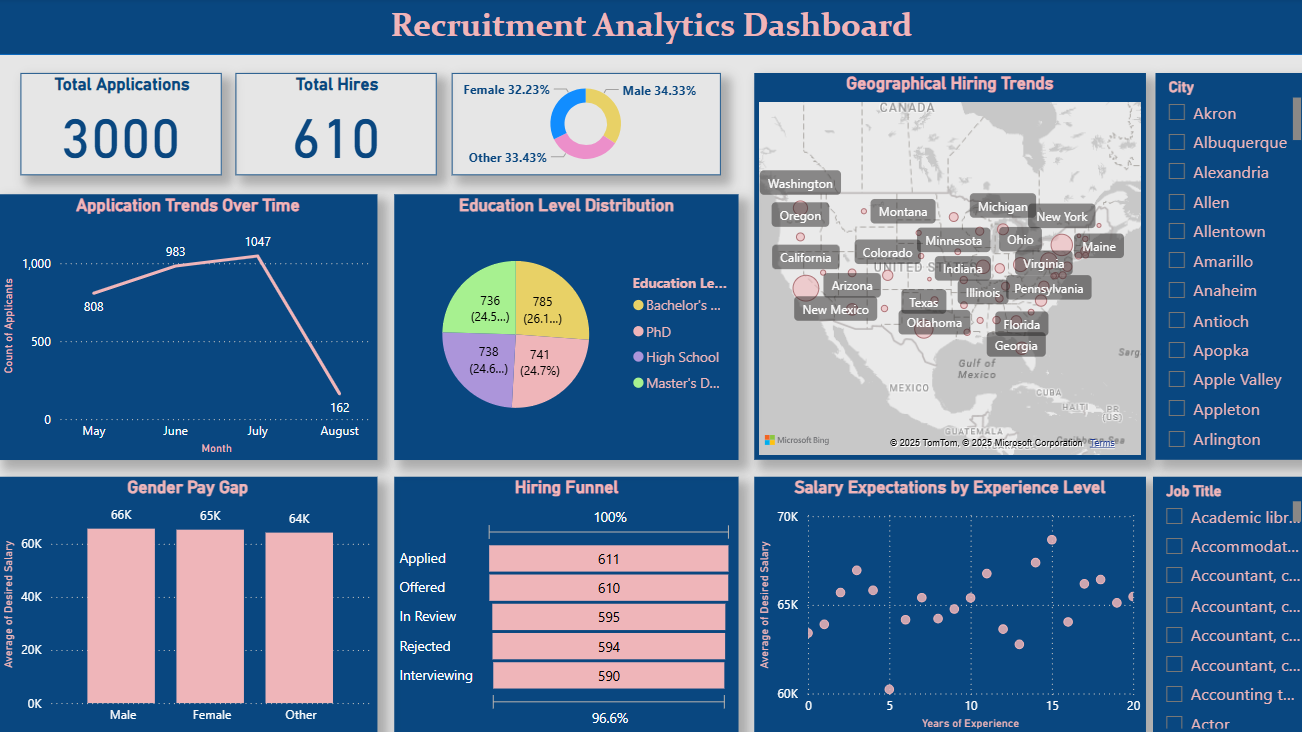

This screenshot's page, from the dashboard's own definition file:
{"tool":"powerbi","page":{"name":"Page 1","canvas":[1280,720],"ordinal":0},"visuals":[{"type":"shape","title":"HR Recruitment Dashboard","box":[0,0,1280,55.7],"z":0},{"type":"textbox","box":[4.1,2.7,1270.7,50.8],"z":1000},{"type":"lineChart","title":"Application Trends Over Time","fields":{"Category":["recruitment_data.Application Date.Variation.Date Hierarchy.Year","recruitment_data.Application Date.Variation.Date Hierarchy.Quarter","recruitment_data.Application Date.Variation.Date Hierarchy.Month","recruitment_data.Application Date.Variation.Date Hierarchy.Day"],"Y":["CountNonNull(recruitment_data.Applicant ID)"]},"box":[0,191.4,371.4,260],"z":2000},{"type":"funnel","title":"Hiring Funnel","fields":{"Category":["recruitment_data.Status"],"Y":["CountNonNull(recruitment_data.Applicant ID)"]},"box":[387.1,468.6,337.1,251.4],"z":3000},{"type":"map","title":"Geographical Hiring Trends","fields":{"Category":["recruitment_data.State","recruitment_data.Country"],"Size":["CountNonNull(recruitment_data.Applicant ID)"]},"box":[740,72.9,382.9,378.6],"z":4000},{"type":"slicer","fields":{"Values":["recruitment_data.City"]},"box":[1132.9,72.9,147.1,378.6],"z":5000},{"type":"scatterChart","title":"Salary Expectations by Experience Level","fields":{"X":["recruitment_data.Years of Experience"],"Y":["Avg(recruitment_data.Desired Salary)"]},"box":[740,468.6,382.9,251.4],"z":6000},{"type":"slicer","fields":{"Values":["recruitment_data.Job Title"]},"box":[1130,468.6,150,251.4],"z":7000},{"type":"card","title":"Total Applications","fields":{"Values":["CountNonNull(recruitment_data.Applicant ID)"]},"box":[21.4,72.9,197.1,100],"z":8000},{"type":"card","title":"Total Hires","fields":{"Values":["CountNonNull(recruitment_data.Applicant ID)"]},"box":[232.9,72.9,197.1,100],"z":9000},{"type":"pieChart","title":"Education Level Distribution","fields":{"Category":["recruitment_data.Education Level"],"Y":["CountNonNull(recruitment_data.Applicant ID)"]},"box":[387.1,191.4,337.1,260],"z":10000},{"type":"columnChart","title":"Gender Pay Gap ","fields":{"Category":["recruitment_data.Gender"],"Y":["Avg(recruitment_data.Desired Salary)"]},"box":[0,468.6,371.4,251.4],"z":11000},{"type":"donutChart","fields":{"Category":["recruitment_data.Gender"],"Y":["CountNonNull(recruitment_data.Applicant ID)"]},"box":[444.3,72.9,262.9,100],"z":12000}]}

Visuals, with their boxes in screenshot pixels (x1, y1, x2, y2), scaled from the page's 1280x720 canvas onto the 1302x732 screenshot:
"HR Recruitment Dashboard" shape: <box>0,0,1301,57</box>
textbox: <box>4,3,1297,54</box>
"Application Trends Over Time" lineChart: <box>0,195,378,459</box>
"Hiring Funnel" funnel: <box>394,476,737,731</box>
"Geographical Hiring Trends" map: <box>753,74,1142,459</box>
slicer - recruitment_data.City: <box>1152,74,1301,459</box>
"Salary Expectations by Experience Level" scatterChart: <box>753,476,1142,731</box>
slicer - recruitment_data.Job Title: <box>1149,476,1301,731</box>
"Total Applications" card: <box>22,74,222,176</box>
"Total Hires" card: <box>237,74,437,176</box>
"Education Level Distribution" pieChart: <box>394,195,737,459</box>
"Gender Pay Gap " columnChart: <box>0,476,378,731</box>
donutChart - recruitment_data.Gender x CountNonNull(recruitment_data.Applicant ID): <box>452,74,719,176</box>
